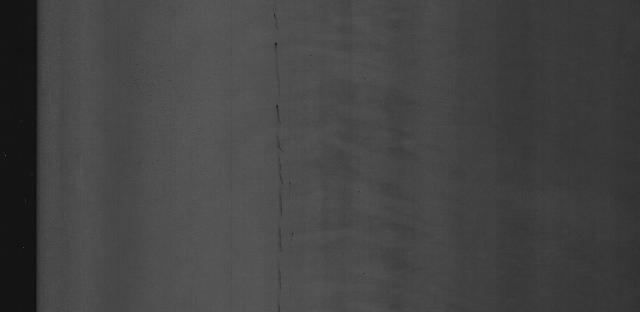inclusion: (258, 16, 292, 302)
